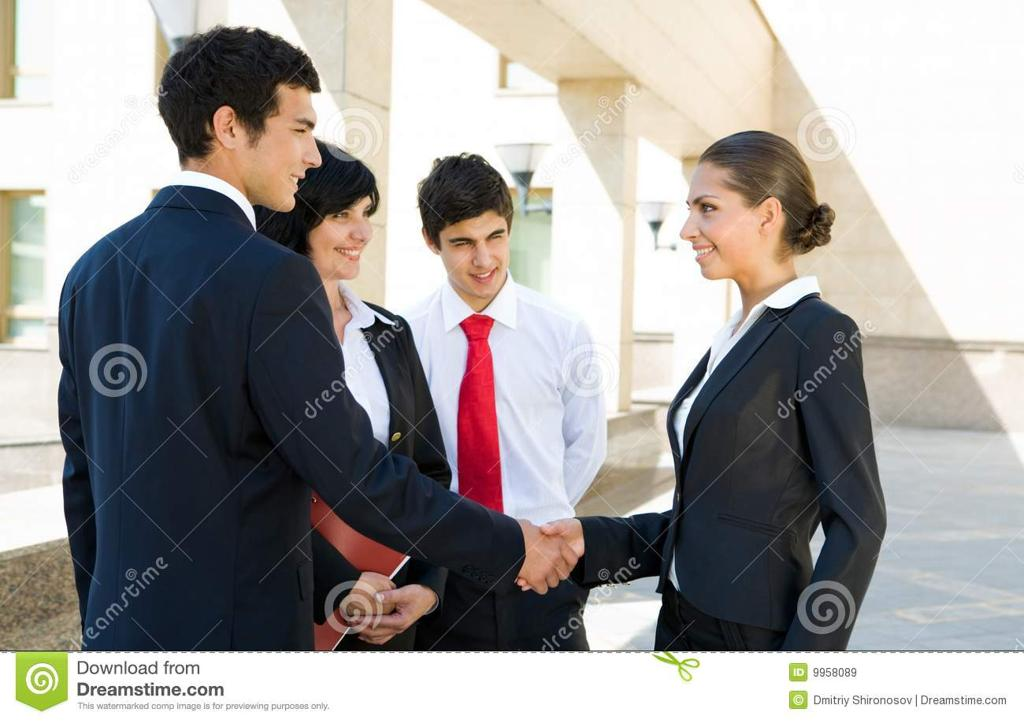face: (248, 66, 322, 216), (682, 154, 746, 282), (434, 202, 510, 296), (304, 172, 372, 274)
